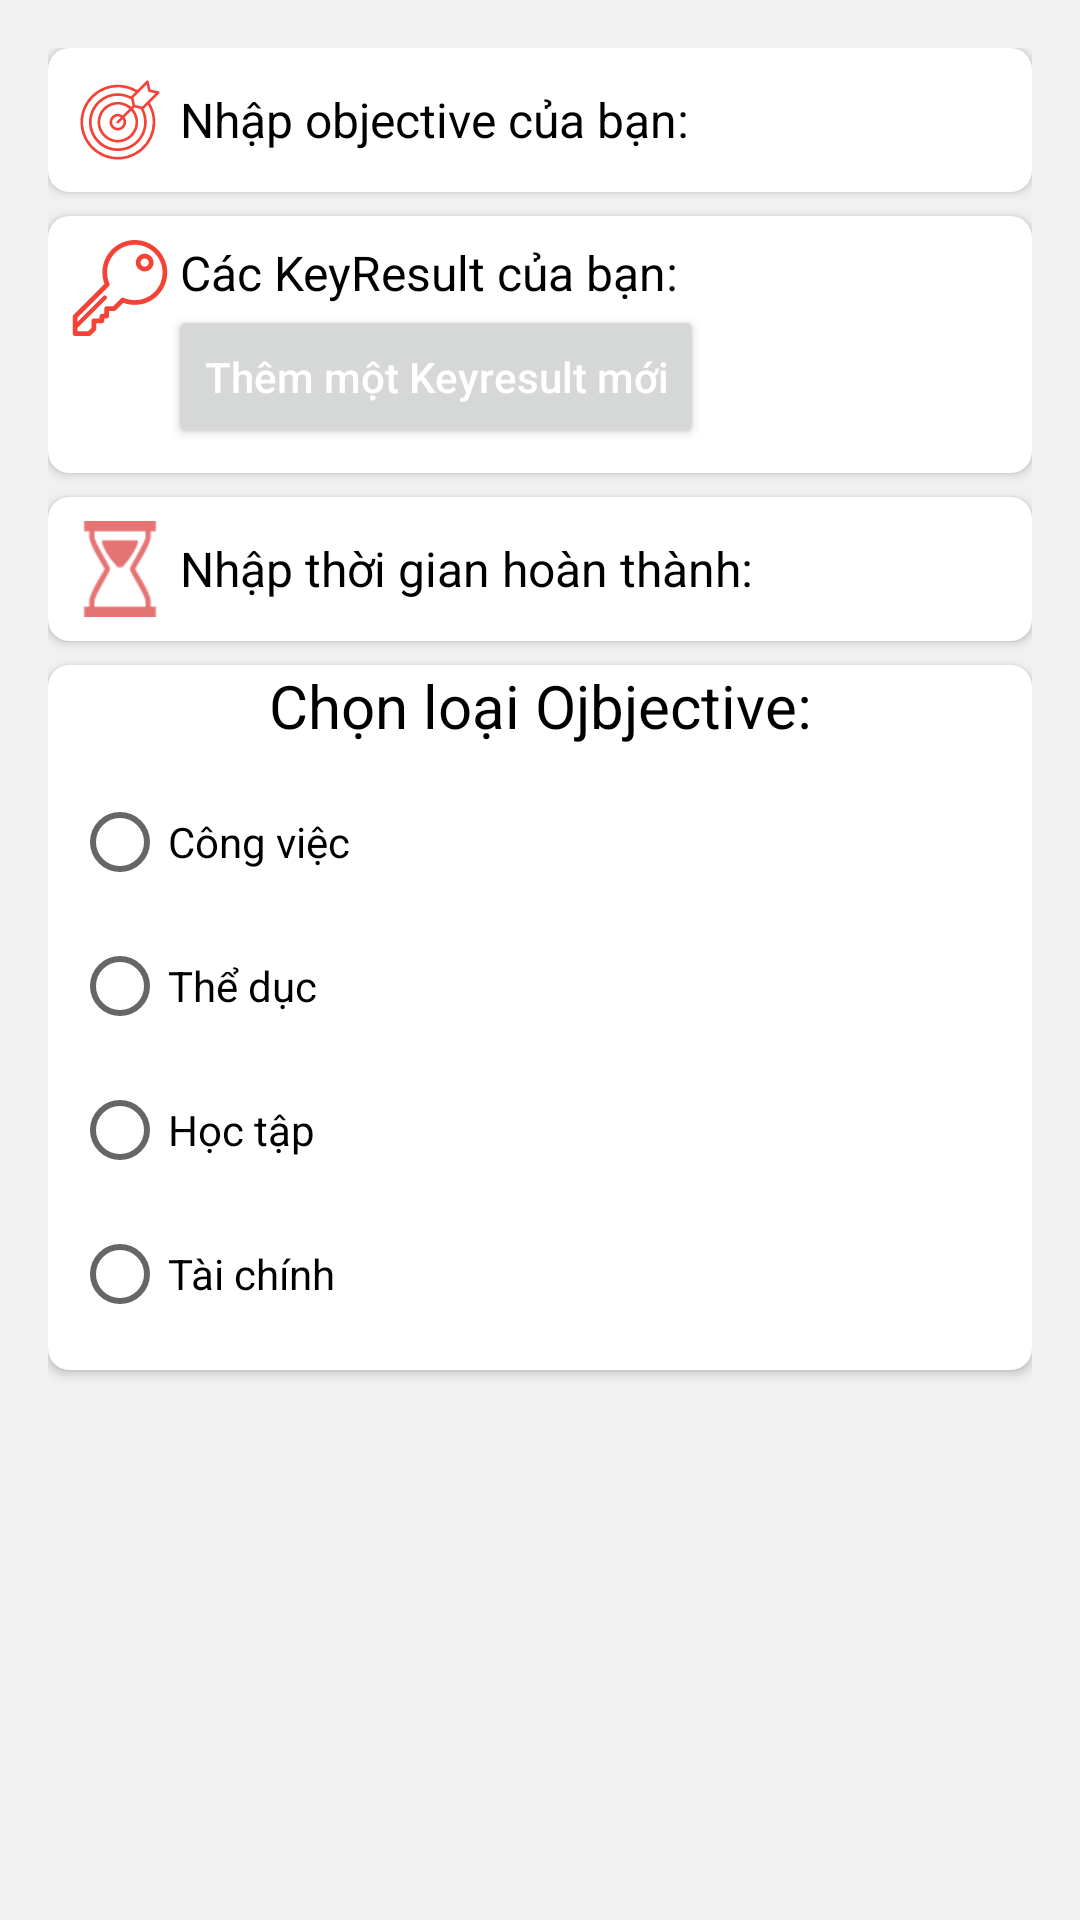

Screen size 1080*1920. Icon name, then its center in pixels as point (x, y):
clock: point (120, 569)
goal: point (120, 120)
key: point (120, 288)
